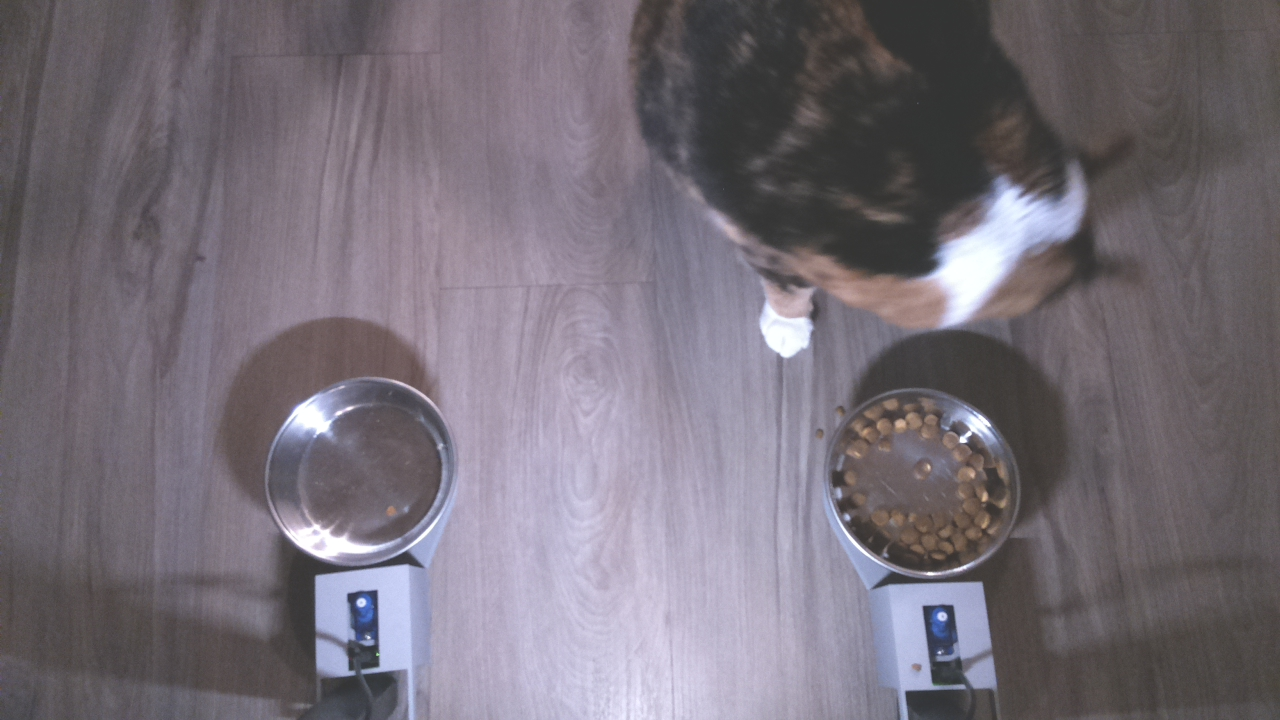bella: (912, 70, 1128, 344)
open_bowl: (813, 386, 1028, 586), (262, 372, 475, 571)
